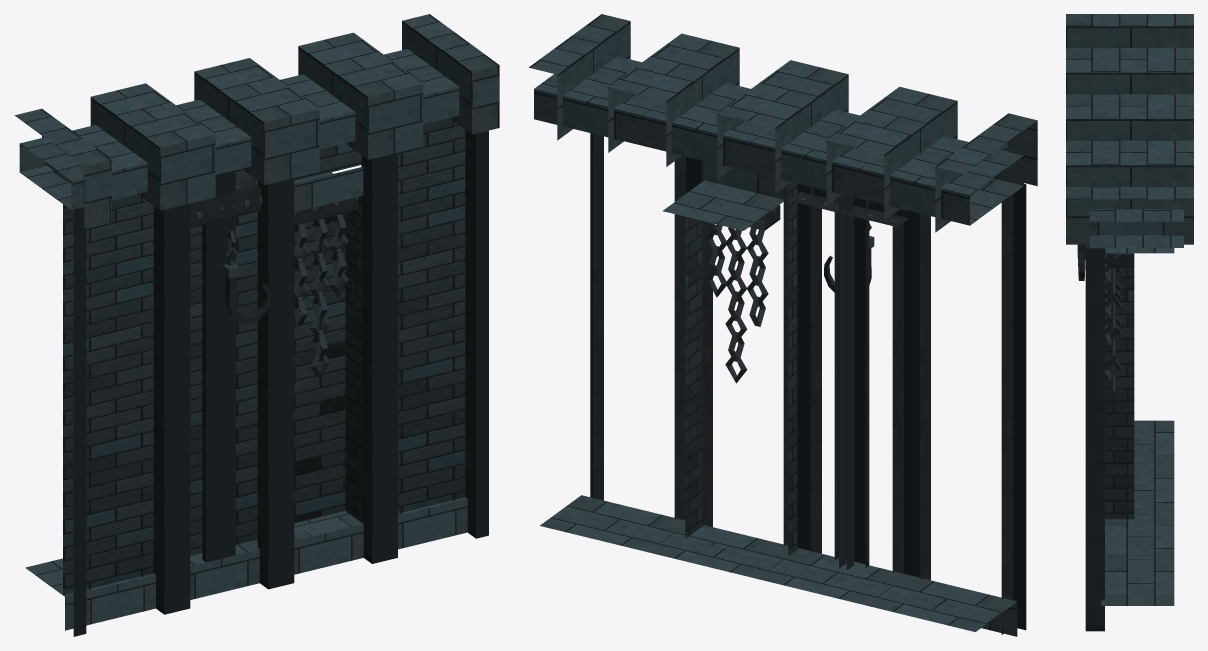
The model's file is T1_Start_A.fbx.
3 renders of one model, left to right at view 1: azimuth 30°, elevation 25°; view 2: azimuth 150°, elevation 25°; view 3: azimuth 270°, elevation 25°, orthographic. The views are drawn at different scales.
Parts seen in each view (by area): view 1: T1_Start_A; view 2: T1_Start_A; view 3: T1_Start_A.
Part boxes in pixels (x1,y1,x2,y2): T1_Start_A: [14, 14, 499, 636]; T1_Start_A: [529, 14, 1037, 636]; T1_Start_A: [1066, 14, 1193, 631].
Bounding box in the file's own units: 4.5 × 4.95 × 1.31.
